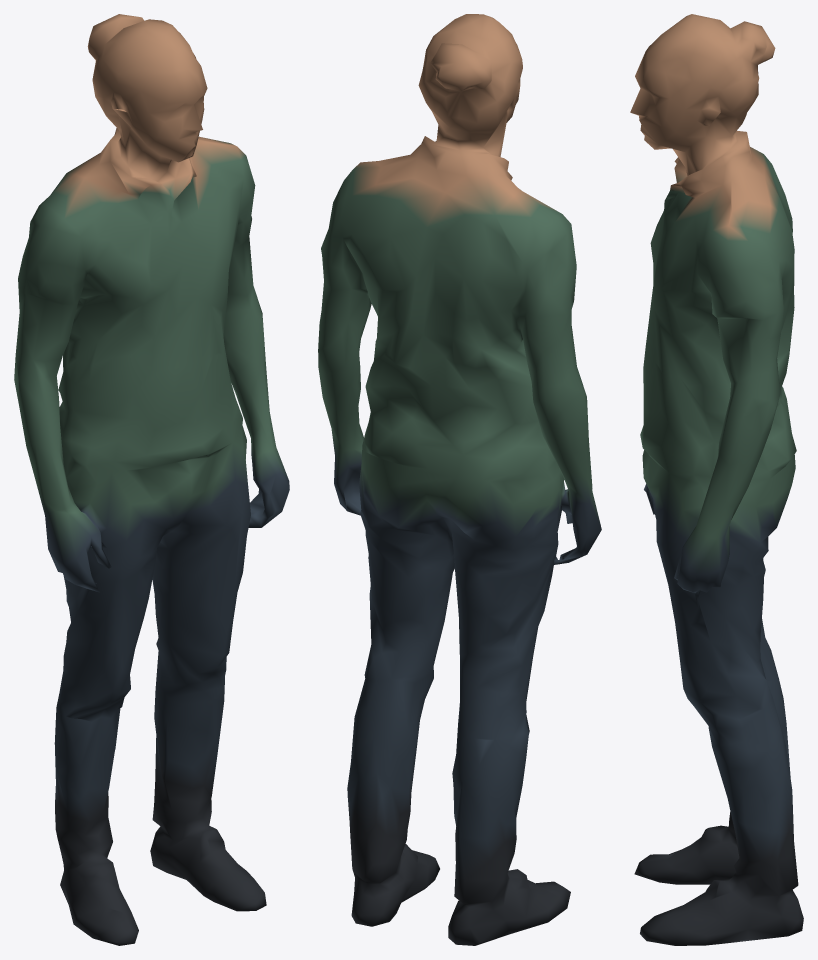
The model's file is people_typ5_stand.glb.
3 views of the same model, side by side, from view 1: azimuth 30°, elevation 25°; view 2: azimuth 150°, elevation 25°; view 3: azimuth 270°, elevation 25° (orthographic).
Visible parts, largest first — view 1: people_typ5_stand-mesh; view 2: people_typ5_stand-mesh; view 3: people_typ5_stand-mesh.
Part boxes in pixels (bbox=[...]): people_typ5_stand-mesh: bbox=[14, 14, 289, 945]; people_typ5_stand-mesh: bbox=[318, 14, 601, 945]; people_typ5_stand-mesh: bbox=[630, 14, 803, 945].
Size of the model in its own units: 0.549 by 1.82 by 0.3261.
